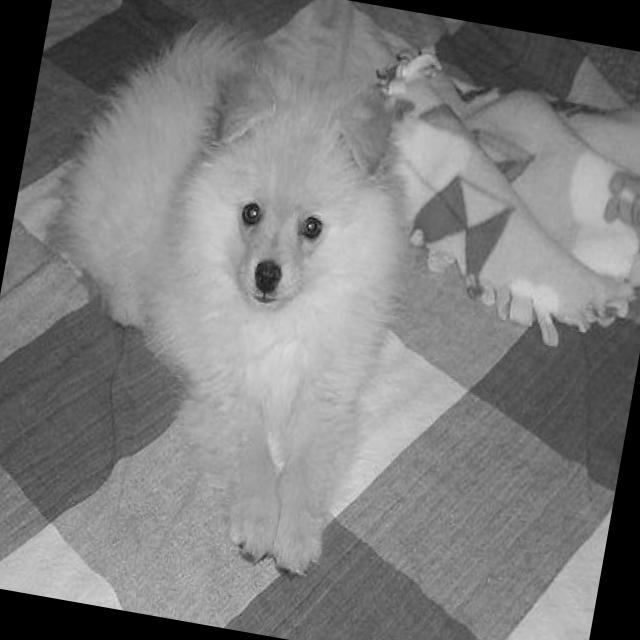laying down: (0, 0, 444, 590)
